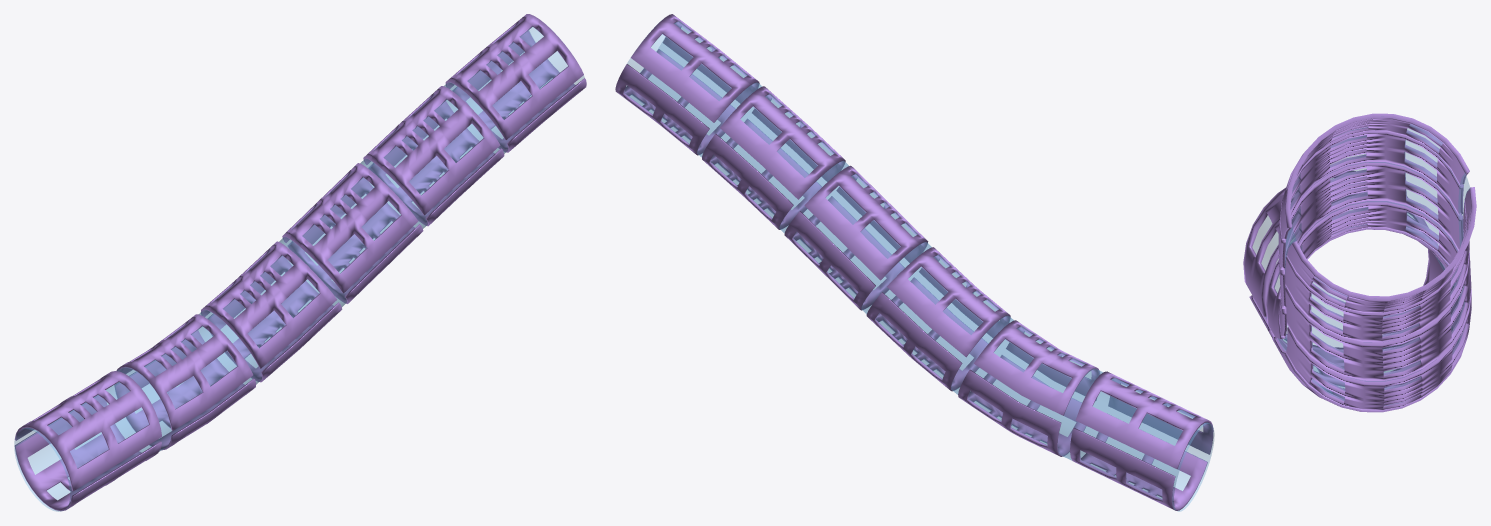
Rendered from tunelfinaaaaaalbien.fbx.
3 renders of one model, left to right at view 1: azimuth 30°, elevation 25°; view 2: azimuth 150°, elevation 25°; view 3: azimuth 270°, elevation 25°, orthographic. The views are drawn at different scales.
Visible parts, largest first — view 1: Cylinder; view 2: Cylinder; view 3: Cylinder.
Part boxes in pixels (box(x1,y1,x2,y2)): Cylinder: box(14, 14, 586, 511); Cylinder: box(615, 14, 1214, 511); Cylinder: box(1243, 113, 1476, 412).
Size of the model in its own units: 23824 by 14959 by 4369.
